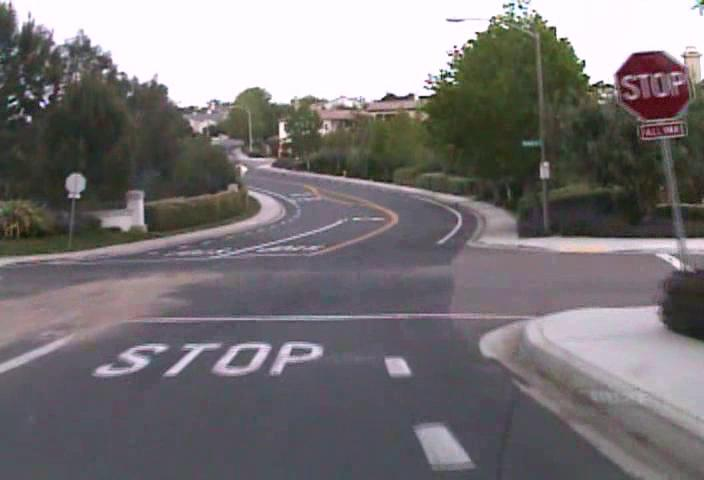stop: (614, 49, 695, 123)
